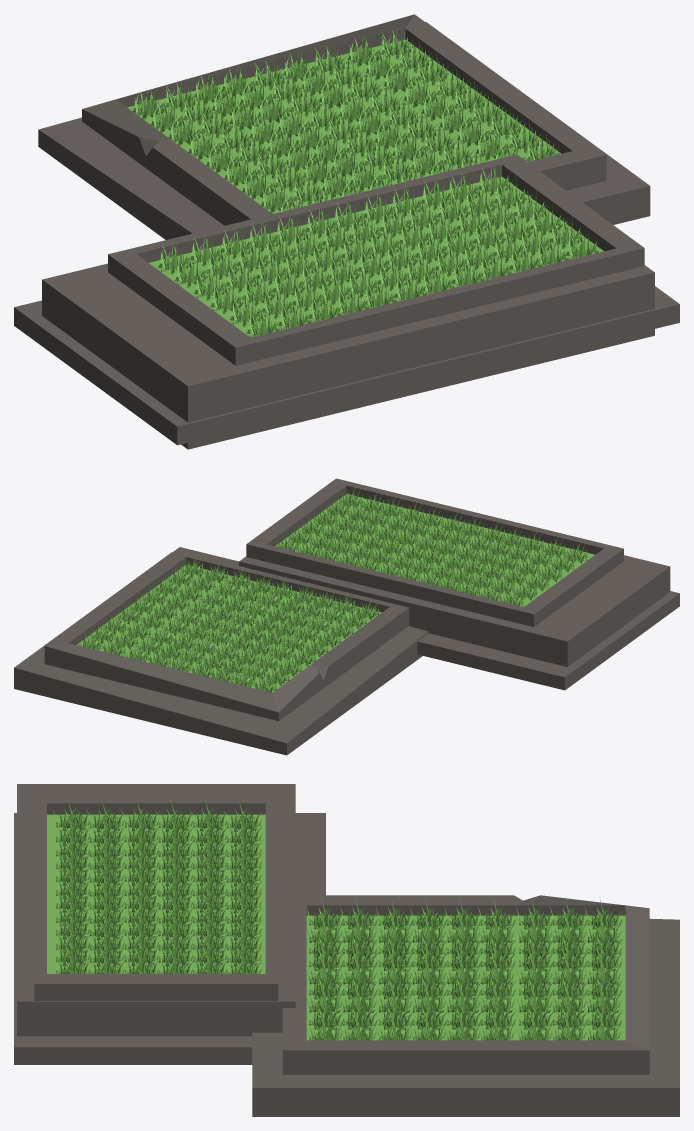
Rendered from PORTAL_STAND.fbx.
3 views of the same model, one above another, from view 1: azimuth 30°, elevation 25°; view 2: azimuth 150°, elevation 25°; view 3: azimuth 270°, elevation 25° (orthographic). The views are drawn at different scales.
Parts seen in each view (by area): view 1: Cone.048; view 2: Cone.048; view 3: Cone.048.
Part boxes in pixels (left/top/right/bottom): Cone.048: left=14, top=14, right=679, bottom=449; Cone.048: left=14, top=478, right=679, bottom=755; Cone.048: left=14, top=784, right=679, bottom=1116.
Size of the model in its own units: 6736 by 1044 by 6809.
